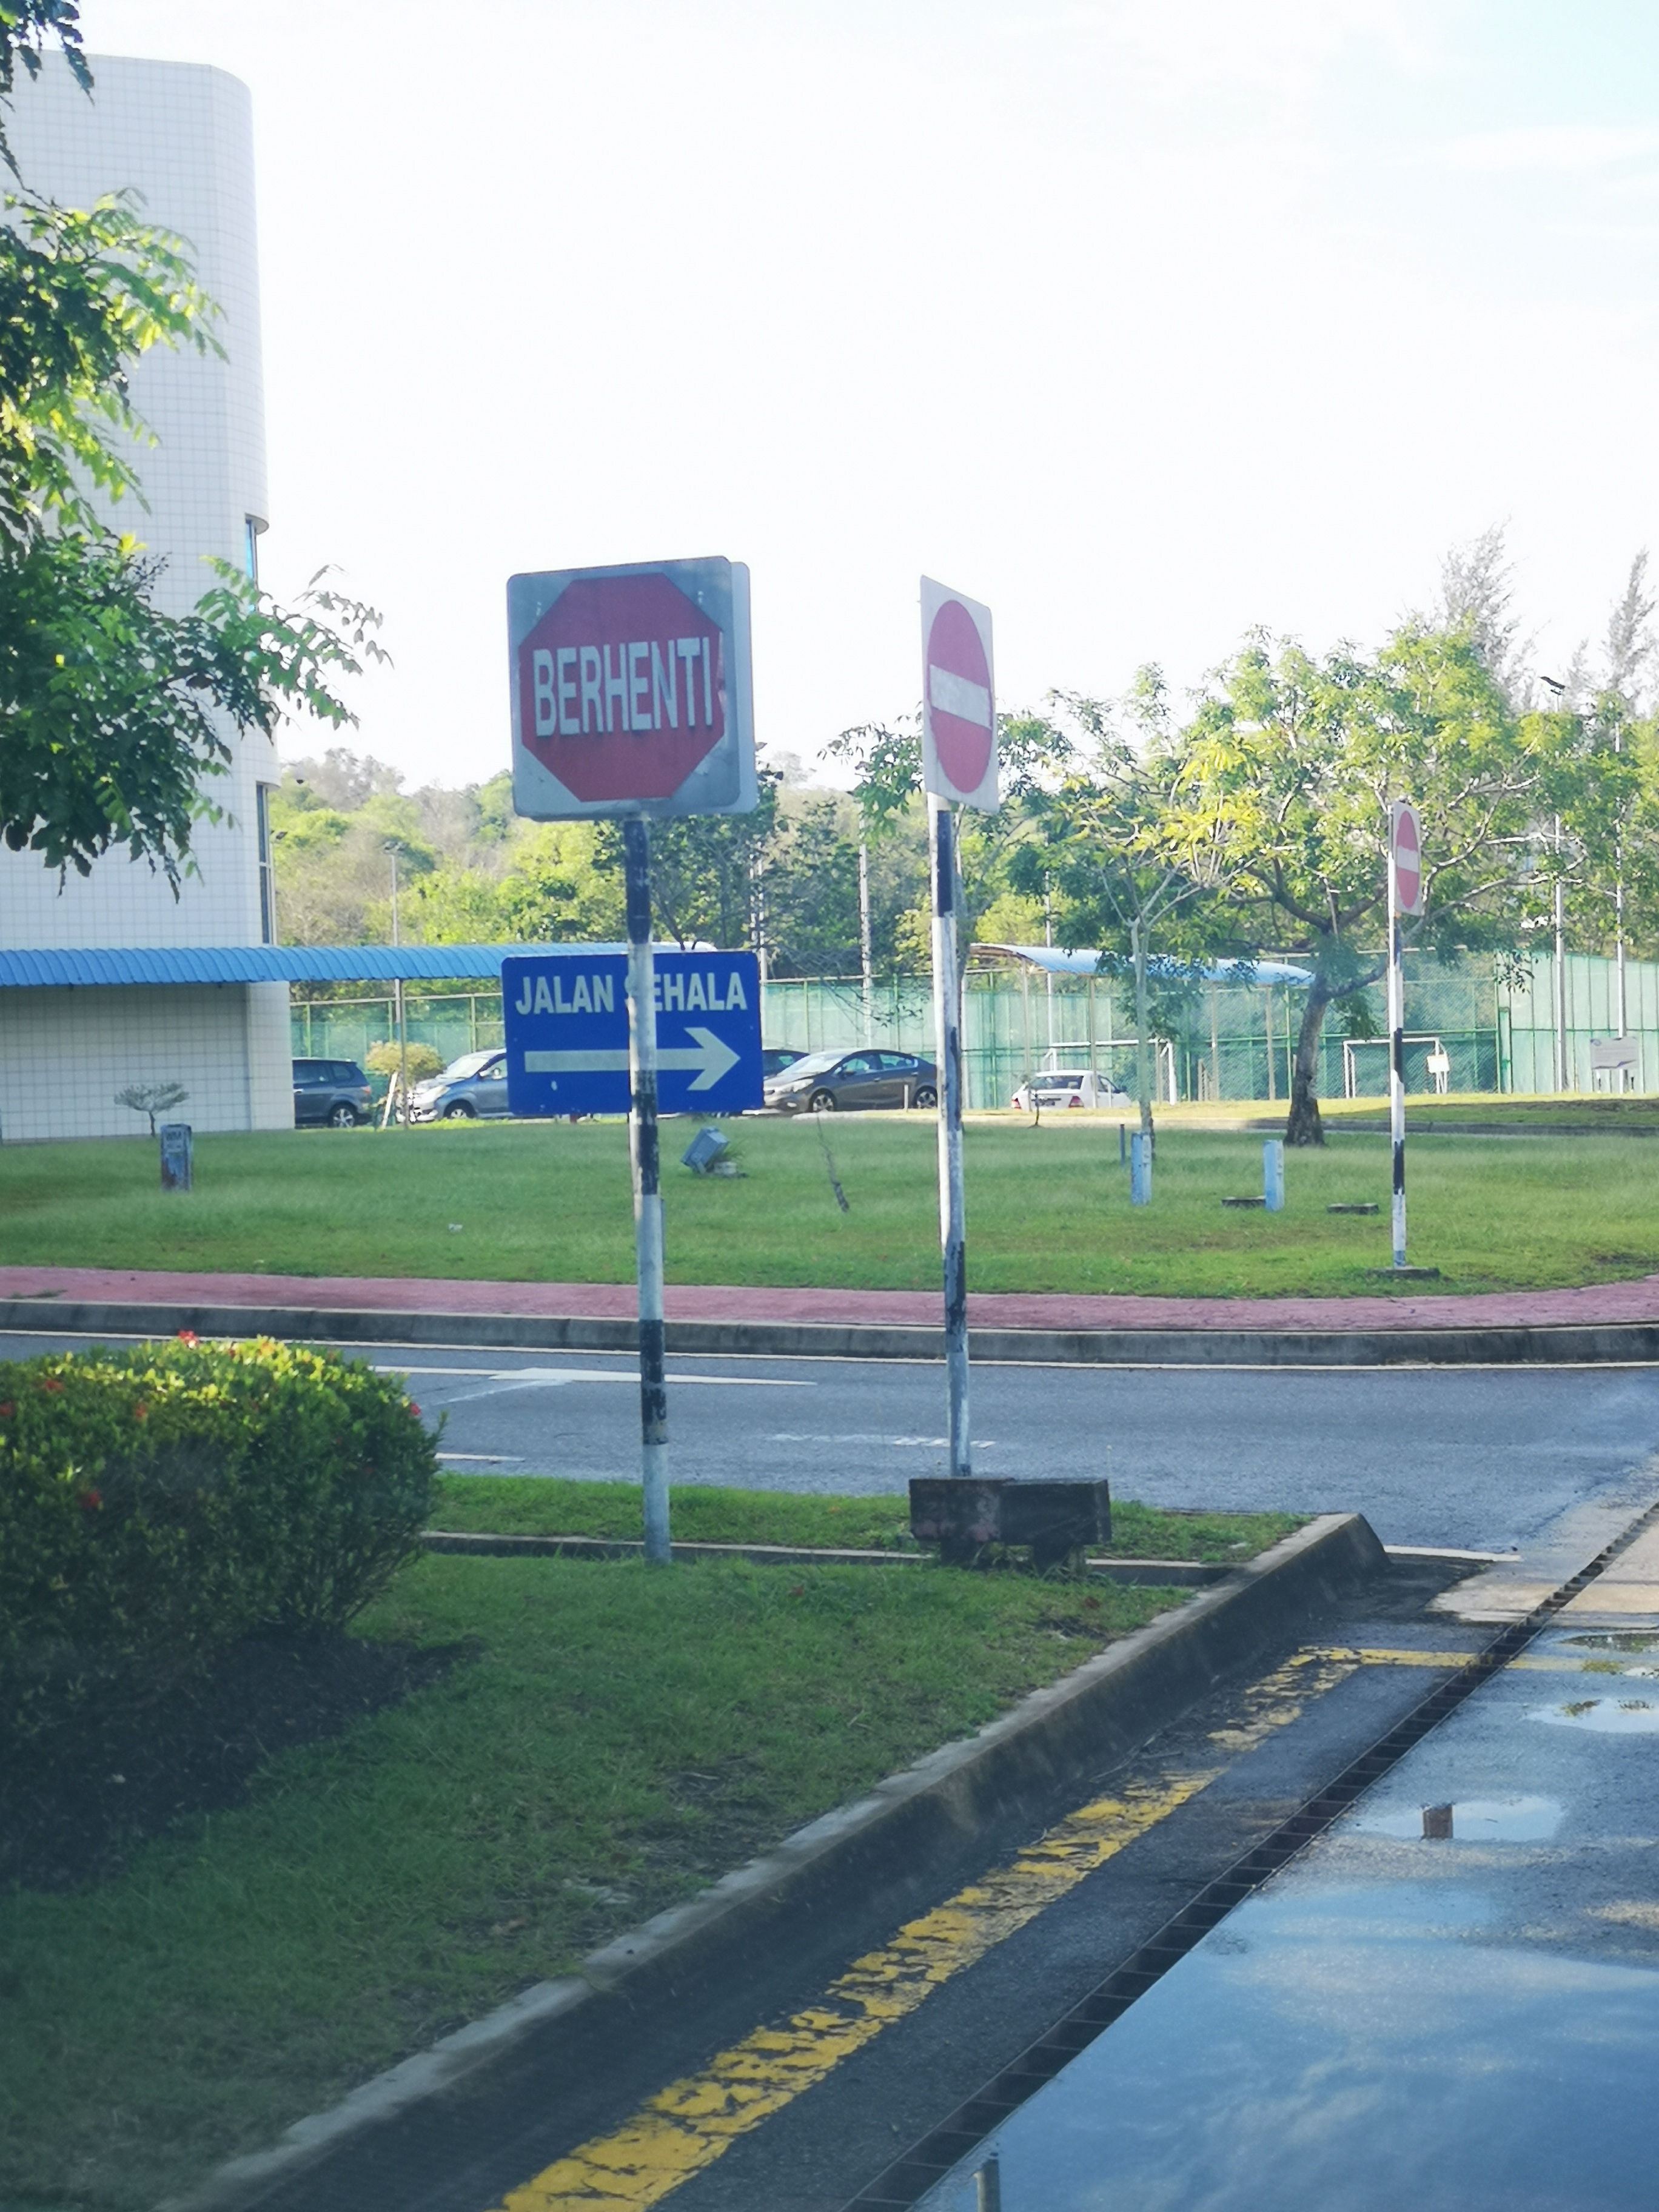no entry: (908, 582, 1014, 817), (1391, 792, 1438, 932)
one way street: (497, 953, 765, 1111)
stop: (504, 570, 756, 820)
